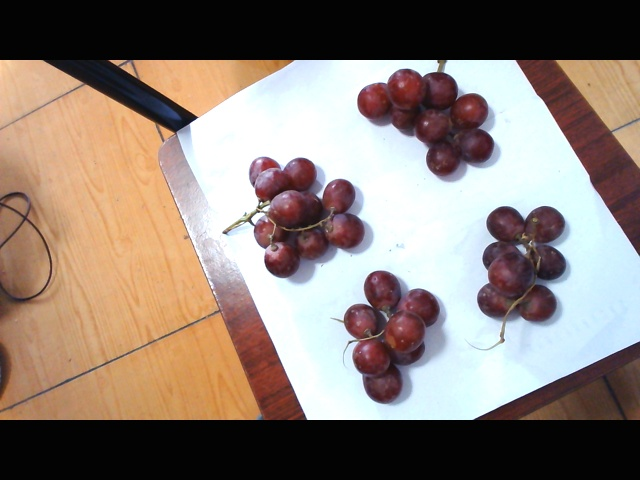grape: (351, 70, 500, 170), (246, 155, 369, 272), (329, 271, 442, 397), (477, 193, 567, 334)
